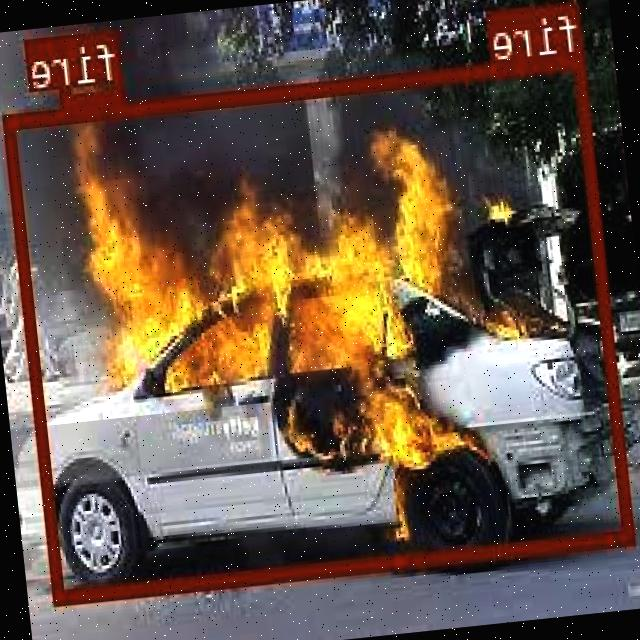fire: (4, 51, 636, 602), (56, 28, 126, 108)
